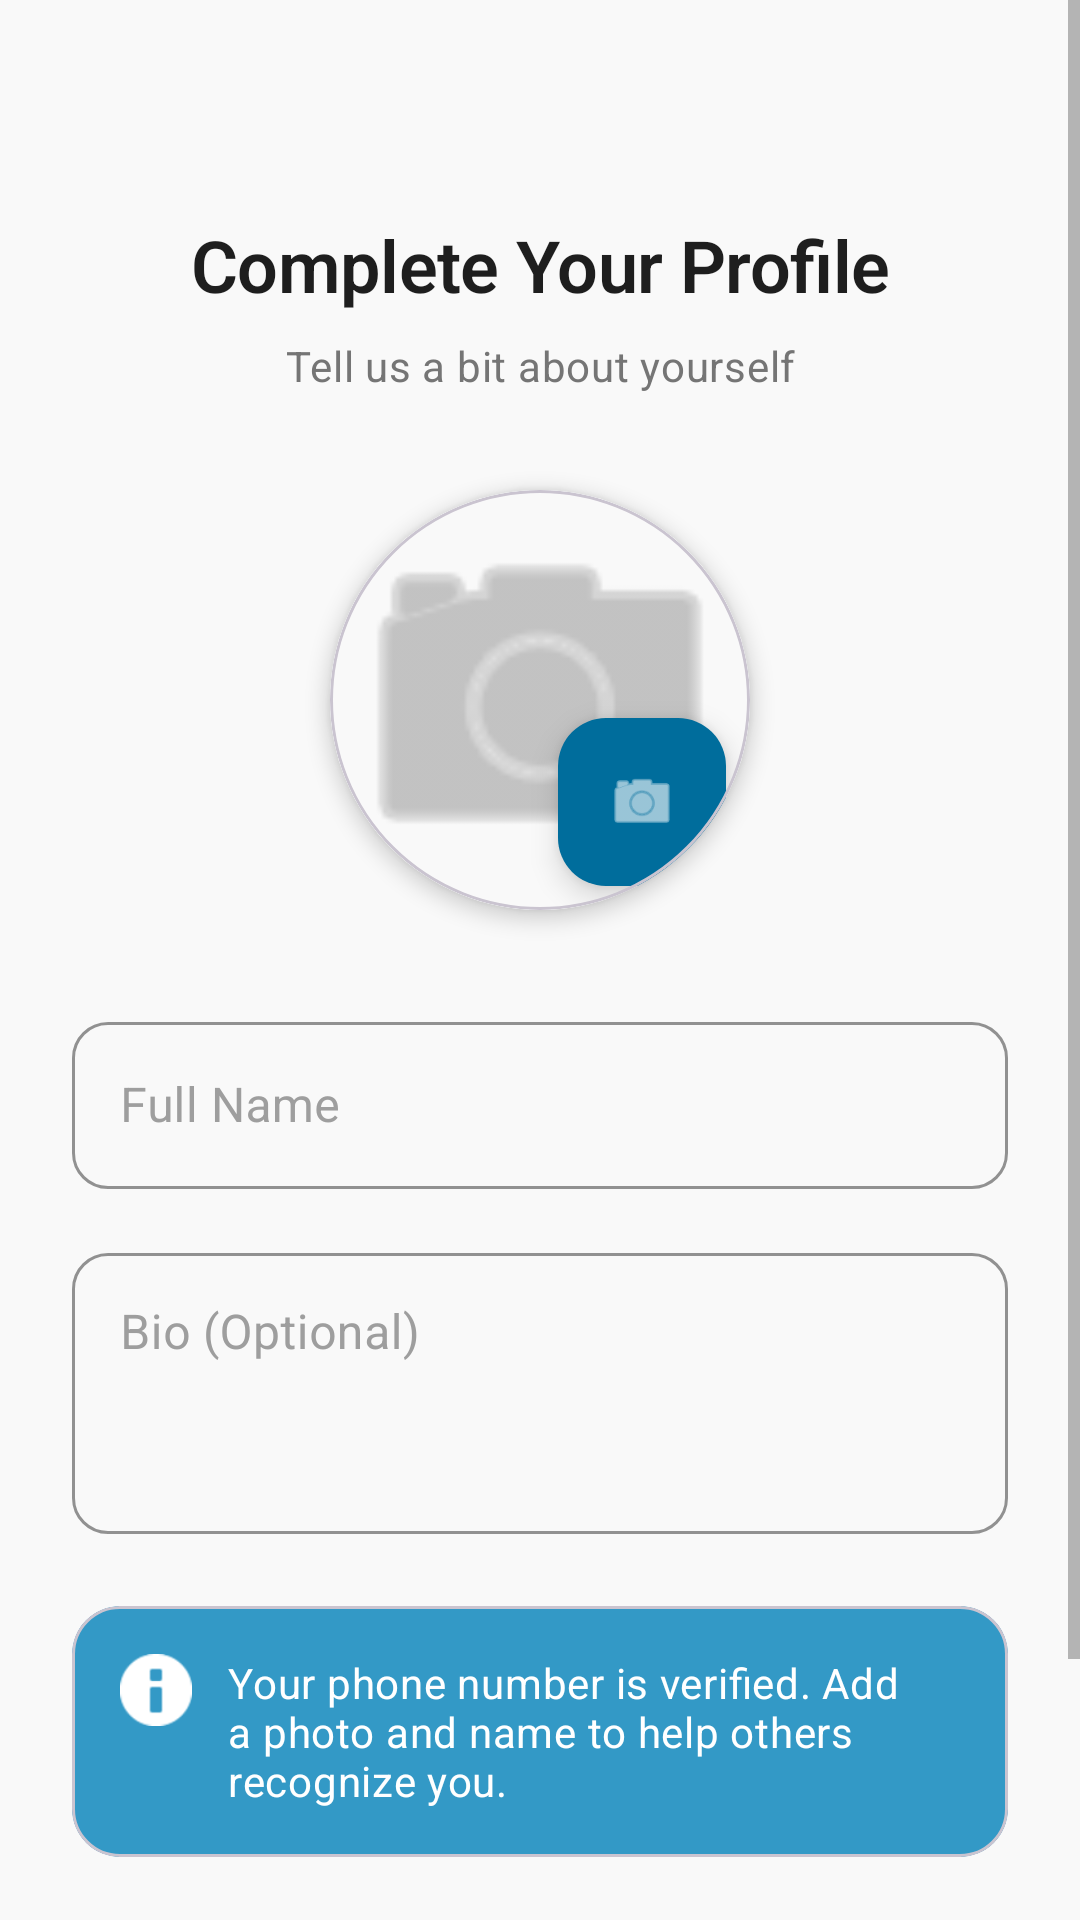

Point at icon controls on the screen. Image size 1080 × 1920, points as [x,y].
Information: [156,1690]
